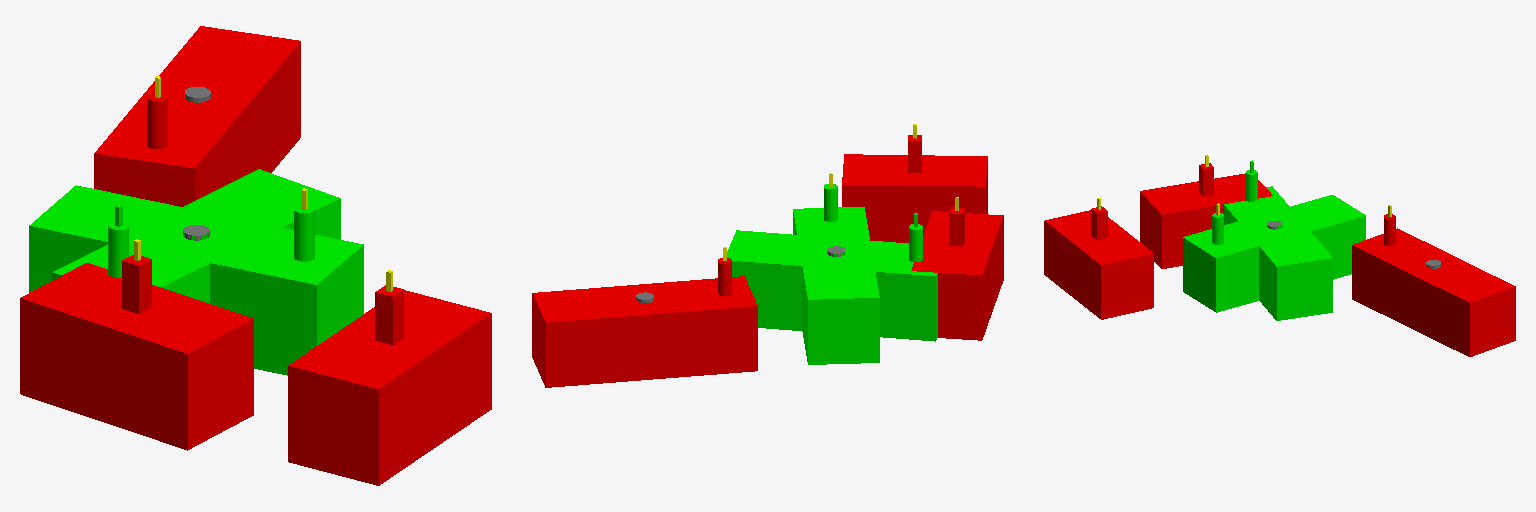
The robot description file, URDF, robot "continuous_space0":
<?xml version="1.0"?>
<!-- created with Phobos 1.0.1 "Capricious Choutengan" -->
  <robot name="continuous_space0">

    <link name="base_link">
    </link>

    <link name="goal">
      <visual name="visual_box_0_link_0.001">
        <origin xyz="0 0 0" rpy="0 0 0"/>
        <geometry>
          <box size="2.996 0.998 0.998"/>
        </geometry>
        <material name="green_translucent"/>
      </visual>
    </link>

    <link name="link_0_joint_0">
      <visual name="visual_box_0_link_0">
        <origin xyz="0 0 0" rpy="0 0 0"/>
        <geometry>
          <box size="2.999 0.999 0.999"/>
        </geometry>
        <material name="green"/>
      </visual>
      <collision name="collision_box_0_link_0">
        <origin xyz="0 0 0" rpy="0 0 0"/>
        <geometry>
          <box size="2.999 0.999 0.999"/>
        </geometry>
      </collision>
    </link>

    <link name="link_1_joint_0">
      <visual name="visual_box_18_link_1">
        <origin xyz="0 0 0" rpy="0 0 0"/>
        <geometry>
          <box size="1.999 0.999 0.999"/>
        </geometry>
        <material name="red"/>
      </visual>
      <collision name="collision_box_18_link_1">
        <origin xyz="0 0 0" rpy="0 0 0"/>
        <geometry>
          <box size="1.999 0.999 0.999"/>
        </geometry>
      </collision>
    </link>

    <link name="link_2_joint_0">
      <visual name="visual_box_29_link_2">
        <origin xyz="0 0 0" rpy="0 0 0"/>
        <geometry>
          <box size="1.999 0.999 0.999"/>
        </geometry>
        <material name="red"/>
      </visual>
      <collision name="collision_box_29_link_2">
        <origin xyz="0 0 0" rpy="0 0 0"/>
        <geometry>
          <box size="1.999 0.999 0.999"/>
        </geometry>
      </collision>
    </link>

    <link name="link_3_joint_0">
      <visual name="visual_box_52_link_3">
        <origin xyz="0 0 0" rpy="0 0 0"/>
        <geometry>
          <box size="2.999 0.999 0.999"/>
        </geometry>
        <material name="red"/>
      </visual>
      <collision name="collision_box_52_link_3">
        <origin xyz="0 0 0" rpy="0 0 0"/>
        <geometry>
          <box size="2.999 0.999 0.999"/>
        </geometry>
      </collision>
    </link>

    <link name="link_fixed_19_handle_shaft">
      <visual name="visual_box_fixed_19_handle_shaft">
        <origin xyz="0 0 0" rpy="0 0 0"/>
        <geometry>
          <box size="0.199 0.199 0.499"/>
        </geometry>
        <material name="red"/>
      </visual>
      <collision name="collision_box_fixed_19_handle_shaft">
        <origin xyz="0 0 0" rpy="0 0 0"/>
        <geometry>
          <box size="0.199 0.199 0.499"/>
        </geometry>
      </collision>
    </link>

    <link name="link_fixed_1_hinge">
      <visual name="visual_cylinder_fixed_1_hinge">
        <origin xyz="0 0 0" rpy="0 0 0"/>
        <geometry>
          <cylinder radius="0.1245" length="1.099"/>
        </geometry>
        <material name="gray"/>
      </visual>
    </link>

    <link name="link_fixed_1_hinge.001">
      <visual name="visual_cylinder_fixed_1_hinge.001">
        <origin xyz="0 0 0" rpy="0 0 0"/>
        <geometry>
          <cylinder radius="0.12438" length="1.0979"/>
        </geometry>
        <material name="green_translucent"/>
      </visual>
    </link>

    <link name="link_fixed_20_handle_knob">
      <visual name="visual_box_fixed_20_handle_knob">
        <origin xyz="0 0 0" rpy="0 0 0"/>
        <geometry>
          <box size="0.049 0.049 0.199"/>
        </geometry>
        <material name="yellow"/>
      </visual>
      <collision name="collision_box_fixed_20_handle_knob">
        <origin xyz="0 0 0" rpy="0 0 0"/>
        <geometry>
          <box size="0.049 0.049 0.199"/>
        </geometry>
      </collision>
    </link>

    <link name="link_fixed_2_handle_shaft">
      <visual name="visual_cylinder_fixed_2_handle_shaft">
        <origin xyz="0 0 0" rpy="0 0 0"/>
        <geometry>
          <cylinder radius="0.0995" length="0.499"/>
        </geometry>
        <material name="green"/>
      </visual>
      <collision name="collision_cylinder_fixed_2_handle_shaft">
        <origin xyz="0 0 0" rpy="0 0 0"/>
        <geometry>
          <cylinder radius="0.0995" length="0.499"/>
        </geometry>
      </collision>
    </link>

    <link name="link_fixed_2_handle_shaft.001">
      <visual name="visual_cylinder_fixed_2_handle_shaft.001">
        <origin xyz="0 0 0" rpy="0 0 0"/>
        <geometry>
          <cylinder radius="0.0994" length="0.4985"/>
        </geometry>
        <material name="green_translucent"/>
      </visual>
    </link>

    <link name="link_fixed_30_handle_shaft">
      <visual name="visual_box_fixed_30_handle_shaft">
        <origin xyz="0 0 0" rpy="0 0 0"/>
        <geometry>
          <box size="0.199 0.199 0.499"/>
        </geometry>
        <material name="red"/>
      </visual>
      <collision name="collision_box_fixed_30_handle_shaft">
        <origin xyz="0 0 0" rpy="0 0 0"/>
        <geometry>
          <box size="0.199 0.199 0.499"/>
        </geometry>
      </collision>
    </link>

    <link name="link_fixed_31_handle_knob">
      <visual name="visual_box_fixed_31_handle_knob">
        <origin xyz="0 0 0" rpy="0 0 0"/>
        <geometry>
          <box size="0.049 0.049 0.199"/>
        </geometry>
        <material name="yellow"/>
      </visual>
      <collision name="collision_box_fixed_31_handle_knob">
        <origin xyz="0 0 0" rpy="0 0 0"/>
        <geometry>
          <box size="0.049 0.049 0.199"/>
        </geometry>
      </collision>
    </link>

    <link name="link_fixed_3_handle_knob">
      <visual name="visual_box_fixed_3_handle_knob">
        <origin xyz="0 0 0" rpy="0 0 0"/>
        <geometry>
          <box size="0.049 0.049 0.199"/>
        </geometry>
        <material name="yellow"/>
      </visual>
      <collision name="collision_box_fixed_3_handle_knob">
        <origin xyz="0 0 0" rpy="0 0 0"/>
        <geometry>
          <box size="0.049 0.049 0.199"/>
        </geometry>
      </collision>
    </link>

    <link name="link_fixed_3_handle_knob.001">
      <visual name="visual_box_fixed_3_handle_knob.001">
        <origin xyz="0 0 0" rpy="0 0 0"/>
        <geometry>
          <box size="0.04895 0.04895 0.1988"/>
        </geometry>
        <material name="green_translucent"/>
      </visual>
    </link>

    <link name="link_fixed_53_hinge">
      <visual name="visual_cylinder_fixed_53_hinge">
        <origin xyz="0 0 0" rpy="0 0 0"/>
        <geometry>
          <cylinder radius="0.1245" length="1.099"/>
        </geometry>
        <material name="gray"/>
      </visual>
    </link>

    <link name="link_fixed_54_handle_shaft">
      <visual name="visual_cylinder_fixed_54_handle_shaft">
        <origin xyz="0 0 0" rpy="0 0 0"/>
        <geometry>
          <cylinder radius="0.0995" length="0.499"/>
        </geometry>
        <material name="red"/>
      </visual>
      <collision name="collision_cylinder_fixed_54_handle_shaft">
        <origin xyz="0 0 0" rpy="0 0 0"/>
        <geometry>
          <cylinder radius="0.0995" length="0.499"/>
        </geometry>
      </collision>
    </link>

    <link name="link_fixed_55_handle_knob">
      <visual name="visual_box_fixed_55_handle_knob">
        <origin xyz="0 0 0" rpy="0 0 0"/>
        <geometry>
          <box size="0.049 0.049 0.199"/>
        </geometry>
        <material name="yellow"/>
      </visual>
      <collision name="collision_box_fixed_55_handle_knob">
        <origin xyz="0 0 0" rpy="0 0 0"/>
        <geometry>
          <box size="0.049 0.049 0.199"/>
        </geometry>
      </collision>
    </link>

    <joint name="goal" type="fixed">
      <origin xyz="0 0 0.5" rpy="0 0 -2.79786"/>
      <parent link="base_link"/>
      <child link="goal"/>
      <limit effort="0" velocity="0"/>
    </joint>

    <joint name="link_0_joint_0" type="revolute">
      <origin xyz="0 0 0.5" rpy="0 0 -0.97753"/>
      <parent link="base_link"/>
      <child link="link_0_joint_0"/>
      <axis xyz="0 0 1.0"/>
      <limit lower="-1.82033" upper="0" effort="0" velocity="0"/>
    </joint>

    <joint name="link_1_joint_0" type="prismatic">
      <origin xyz="-1.29085 -1.12527 0.5" rpy="0 0 -1.19497"/>
      <parent link="base_link"/>
      <child link="link_1_joint_0"/>
      <axis xyz="1.0 0 0"/>
      <limit lower="0" upper="2.63239" effort="0" velocity="0"/>
    </joint>

    <joint name="link_2_joint_0" type="prismatic">
      <origin xyz="0.41443 -2.904 0.5" rpy="0 0 0.49049"/>
      <parent link="base_link"/>
      <child link="link_2_joint_0"/>
      <axis xyz="1.0 0 0"/>
      <limit lower="0" upper="3.46056" effort="0" velocity="0"/>
    </joint>

    <joint name="link_3_joint_0" type="revolute">
      <origin xyz="1.53895 2.64164 0.5" rpy="0 0 -2.43302"/>
      <parent link="base_link"/>
      <child link="link_3_joint_0"/>
      <axis xyz="0 0 1.0"/>
      <limit lower="-1.64453" upper="0" effort="0" velocity="0"/>
    </joint>

    <joint name="link_fixed_19_handle_shaft" type="fixed">
      <origin xyz="0 0 0.75" rpy="0 0 0"/>
      <parent link="link_1_joint_0"/>
      <child link="link_fixed_19_handle_shaft"/>
    </joint>

    <joint name="link_fixed_1_hinge" type="fixed">
      <origin xyz="0 0 0" rpy="0 0 0"/>
      <parent link="link_0_joint_0"/>
      <child link="link_fixed_1_hinge"/>
    </joint>

    <joint name="link_fixed_1_hinge.001" type="fixed">
      <origin xyz="0 0 0" rpy="0 0 0"/>
      <parent link="goal"/>
      <child link="link_fixed_1_hinge.001"/>
    </joint>

    <joint name="link_fixed_20_handle_knob" type="fixed">
      <origin xyz="0 0 0.35" rpy="0 0 0"/>
      <parent link="link_fixed_19_handle_shaft"/>
      <child link="link_fixed_20_handle_knob"/>
    </joint>

    <joint name="link_fixed_2_handle_shaft" type="fixed">
      <origin xyz="1.125 0 0.75" rpy="0 0 0"/>
      <parent link="link_0_joint_0"/>
      <child link="link_fixed_2_handle_shaft"/>
    </joint>

    <joint name="link_fixed_2_handle_shaft.001" type="fixed">
      <origin xyz="1.12388 0 0.74925" rpy="0 0 0"/>
      <parent link="goal"/>
      <child link="link_fixed_2_handle_shaft.001"/>
    </joint>

    <joint name="link_fixed_30_handle_shaft" type="fixed">
      <origin xyz="0 0 0.75" rpy="0 0 0"/>
      <parent link="link_2_joint_0"/>
      <child link="link_fixed_30_handle_shaft"/>
    </joint>

    <joint name="link_fixed_31_handle_knob" type="fixed">
      <origin xyz="0 0 0.35" rpy="0 0 0"/>
      <parent link="link_fixed_30_handle_shaft"/>
      <child link="link_fixed_31_handle_knob"/>
    </joint>

    <joint name="link_fixed_3_handle_knob" type="fixed">
      <origin xyz="0 0 0.35" rpy="0 0 0"/>
      <parent link="link_fixed_2_handle_shaft"/>
      <child link="link_fixed_3_handle_knob"/>
    </joint>

    <joint name="link_fixed_3_handle_knob.001" type="fixed">
      <origin xyz="0 0 0.34965" rpy="0 0 0"/>
      <parent link="link_fixed_2_handle_shaft.001"/>
      <child link="link_fixed_3_handle_knob.001"/>
    </joint>

    <joint name="link_fixed_53_hinge" type="fixed">
      <origin xyz="0 0 0" rpy="0 0 0"/>
      <parent link="link_3_joint_0"/>
      <child link="link_fixed_53_hinge"/>
    </joint>

    <joint name="link_fixed_54_handle_shaft" type="fixed">
      <origin xyz="1.125 0 0.75" rpy="0 0 0"/>
      <parent link="link_3_joint_0"/>
      <child link="link_fixed_54_handle_shaft"/>
    </joint>

    <joint name="link_fixed_55_handle_knob" type="fixed">
      <origin xyz="0 0 0.35" rpy="0 0 0"/>
      <parent link="link_fixed_54_handle_shaft"/>
      <child link="link_fixed_55_handle_knob"/>
    </joint>

    <material name="gray">
      <color rgba="0.5 0.5 0.5 1.0"/>
    </material>

    <material name="green">
      <color rgba="0 1.0 0 1.0"/>
    </material>

    <material name="green_translucent">
      <color rgba="0 1.0 0 0.25"/>
    </material>

    <material name="red">
      <color rgba="1.0 0 0 1.0"/>
    </material>

    <material name="yellow">
      <color rgba="1.0 1.0 0 1.0"/>
    </material>

  </robot>

--- Facts derived from the render (not from the file) ---
The picture shows the robot from 3 angles, left to right: view 1: azimuth 30°, elevation 25°; view 2: azimuth 150°, elevation 25°; view 3: azimuth 270°, elevation 25°; orthographic projection.
Model continuous_space0 with 19 links and 18 joints (2 revolute, 2 prismatic, 14 fixed), rooted at base_link, posed every joint at zero.
Visible links, largest first — view 1: link_1_joint_0, link_2_joint_0, link_0_joint_0, link_3_joint_0, goal, link_fixed_19_handle_shaft, link_fixed_30_handle_shaft, link_fixed_2_handle_shaft, link_fixed_54_handle_shaft, link_fixed_2_handle_shaft.001; view 2: link_3_joint_0, link_0_joint_0, goal, link_2_joint_0, link_1_joint_0, link_fixed_19_handle_shaft; view 3: link_3_joint_0, link_0_joint_0, link_2_joint_0, goal, link_1_joint_0.
Link boxes in pixels (x1=…): link_1_joint_0: x1=20, y1=263, x2=253, y2=450; link_2_joint_0: x1=288, y1=290, x2=491, y2=485; link_0_joint_0: x1=29, y1=185, x2=363, y2=375; link_3_joint_0: x1=94, y1=26, x2=300, y2=206; goal: x1=52, y1=169, x2=340, y2=303; link_fixed_19_handle_shaft: x1=122, y1=255, x2=151, y2=313; link_fixed_30_handle_shaft: x1=375, y1=285, x2=403, y2=344; link_fixed_2_handle_shaft: x1=294, y1=205, x2=314, y2=261; link_fixed_54_handle_shaft: x1=147, y1=92, x2=167, y2=148; link_fixed_2_handle_shaft.001: x1=108, y1=221, x2=128, y2=277; link_3_joint_0: x1=532, y1=276, x2=757, y2=387; link_0_joint_0: x1=793, y1=207, x2=879, y2=364; goal: x1=727, y1=230, x2=937, y2=341; link_2_joint_0: x1=842, y1=154, x2=987, y2=242; link_1_joint_0: x1=911, y1=211, x2=1003, y2=340; link_fixed_19_handle_shaft: x1=949, y1=207, x2=964, y2=246; link_3_joint_0: x1=1352, y1=228, x2=1515, y2=356; link_0_joint_0: x1=1183, y1=195, x2=1365, y2=312; link_2_joint_0: x1=1044, y1=210, x2=1153, y2=319; goal: x1=1224, y1=186, x2=1332, y2=320; link_1_joint_0: x1=1140, y1=173, x2=1272, y2=268.
Size in the robot's own frame: 5.12 by 7.81 by 1.75 metres.
Geometry: primitives only (box / cylinder / sphere), no mesh files.